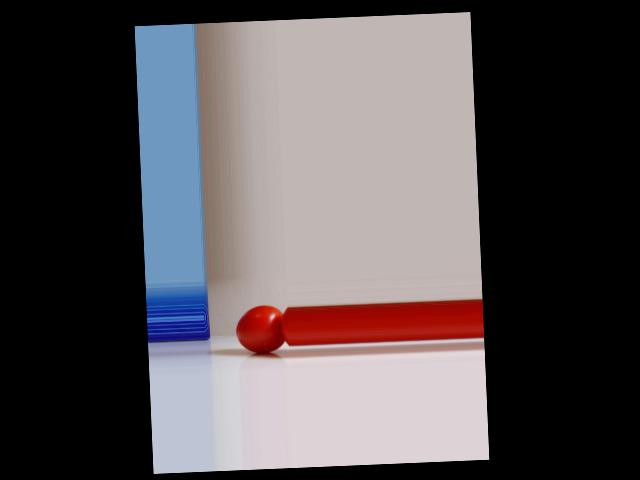tomato: (235, 304, 284, 354)
